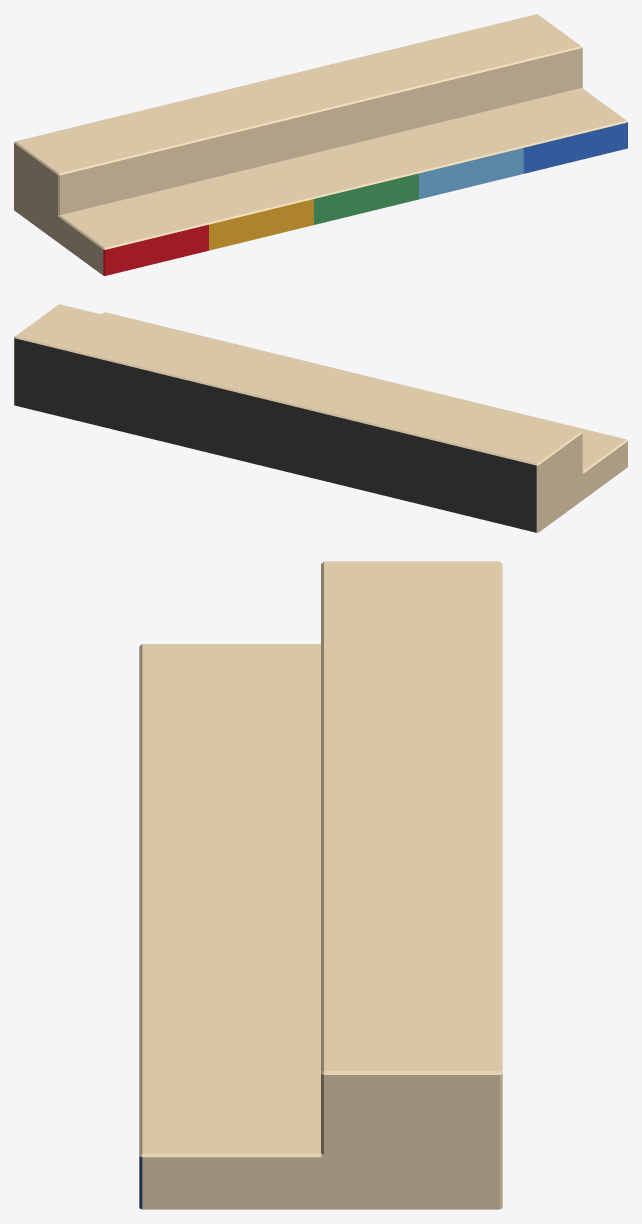
File: Tiered_Stand_00.FBX
The picture shows the model from 3 angles, top to bottom: view 1: azimuth 30°, elevation 25°; view 2: azimuth 150°, elevation 25°; view 3: azimuth 270°, elevation 25°; orthographic projection. The views are drawn at different scales.
Parts seen in each view (by area): view 1: Tiered_Stand_00; view 2: Tiered_Stand_00; view 3: Tiered_Stand_00.
Boxes of the visible parts, x1,y1,x2,y2 form: Tiered_Stand_00: (14, 14, 627, 275); Tiered_Stand_00: (14, 304, 627, 532); Tiered_Stand_00: (139, 561, 502, 1209).
Size of the model in its own units: 8 by 1 by 2.4.
